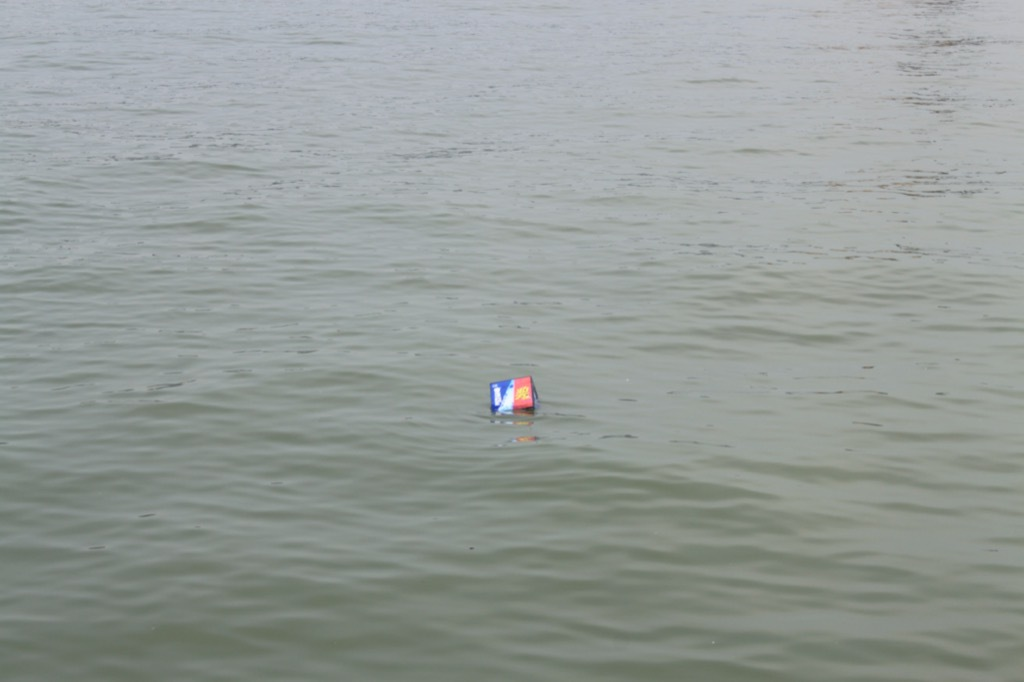plastic: (467, 362, 565, 443), (466, 542, 479, 554), (707, 637, 717, 651), (620, 374, 632, 385)
